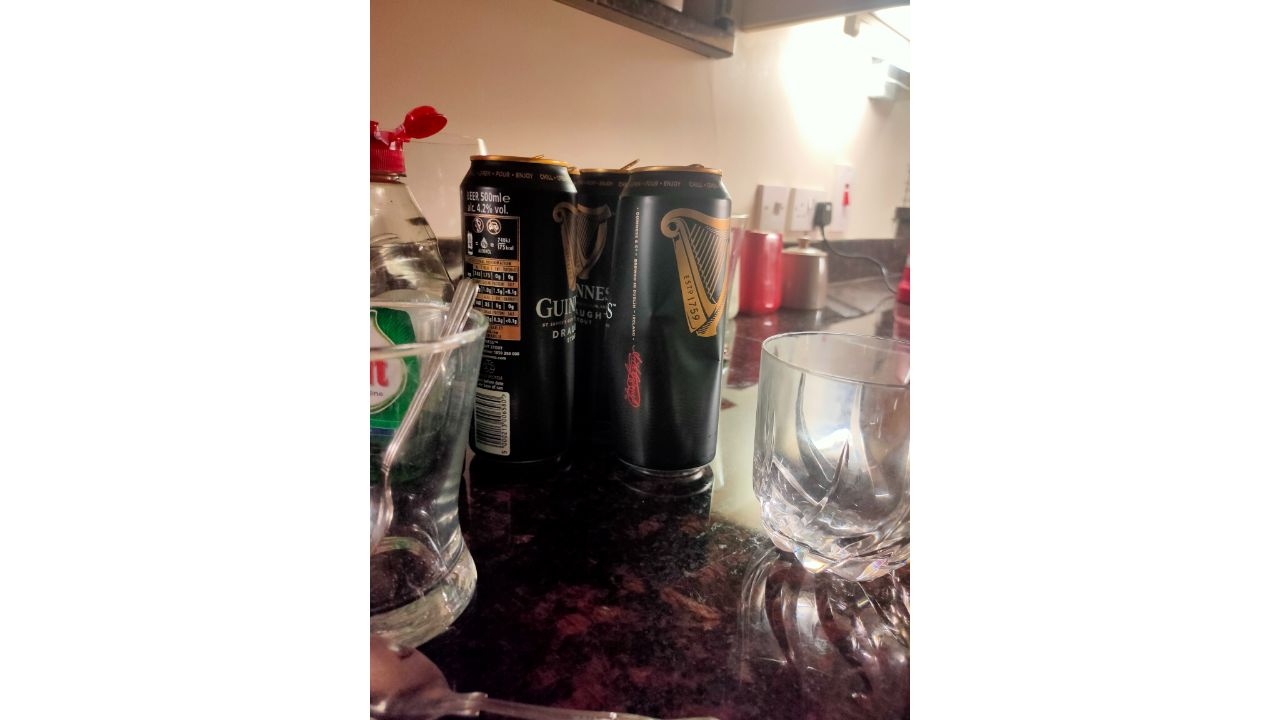Can: (457, 152, 579, 484), (625, 158, 731, 484), (574, 167, 637, 467)
